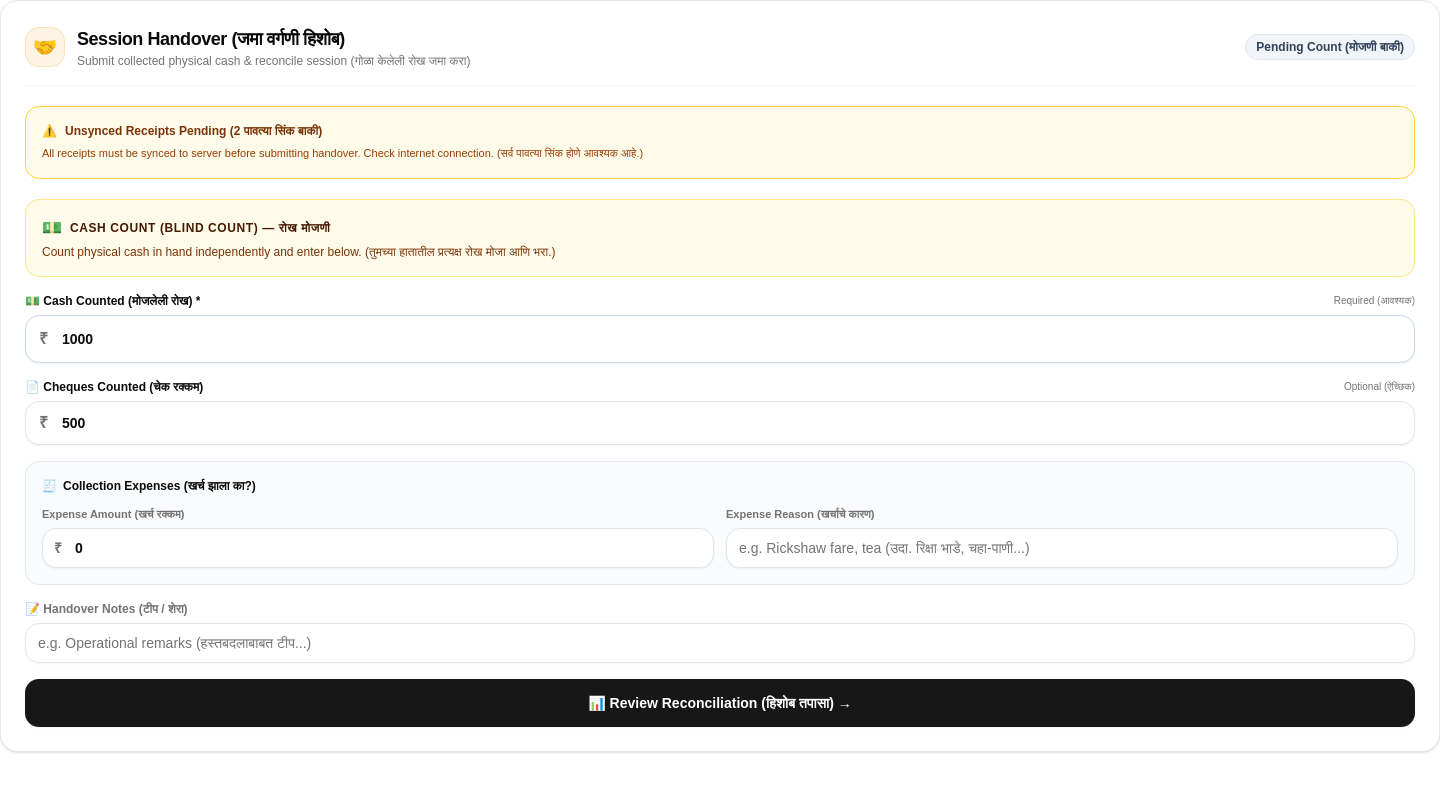
Test: VolunteerHandoverForm › 6. blocks submission and displays warning when unsynced receipts exist
Expected: the text "⚠️ Unsynced Receipts Pending (2 पावत्या सिंक बाकी)" is shown, [42,124,322,138]
Step 1. Click the button "📊 Review Reconciliation (हिशोब तपासा) →" → (720,703), box [25,679,1415,727]
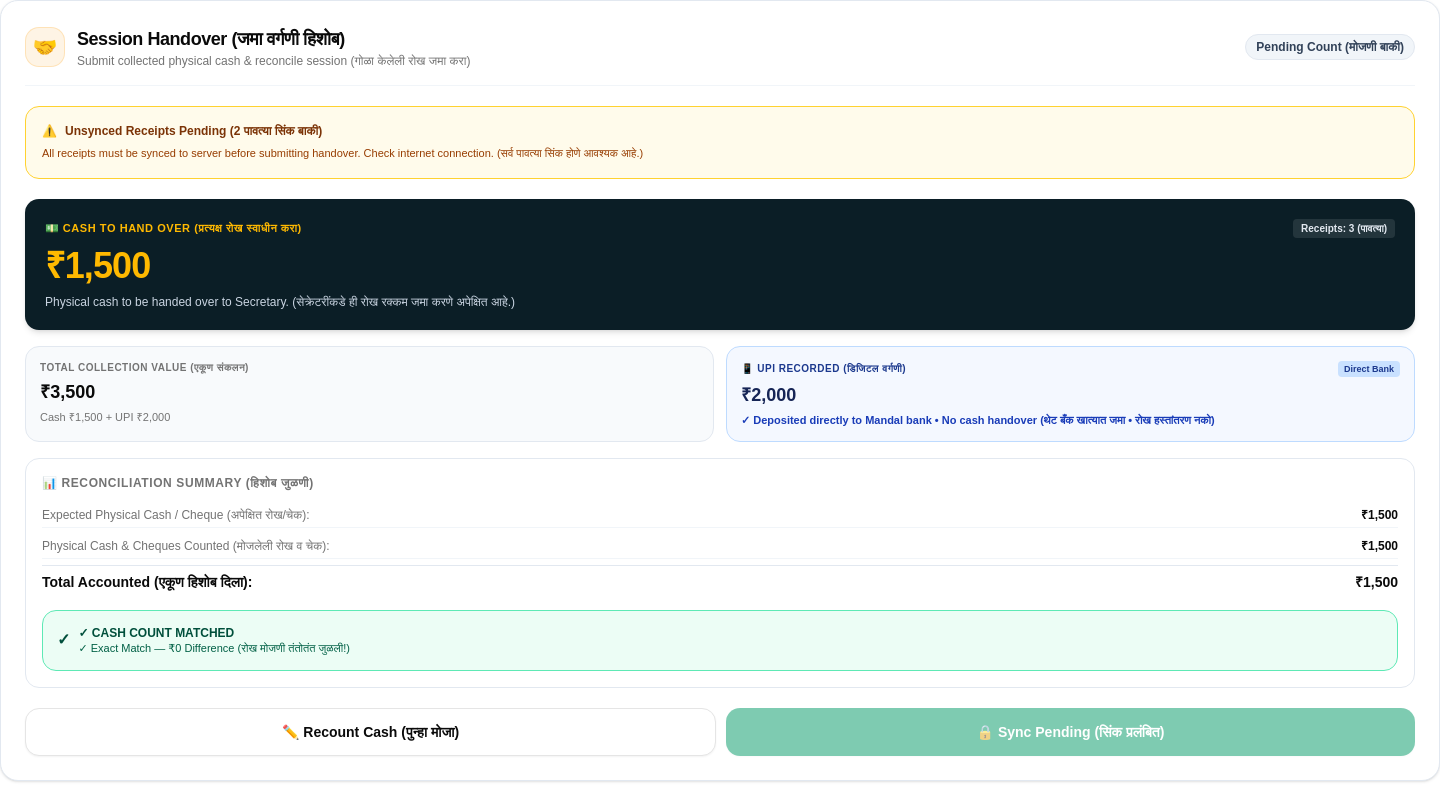
Expected: the button "🔒 Sync Pending (सिंक प्रलंबित)" is disabled, [726,708,1415,756]
